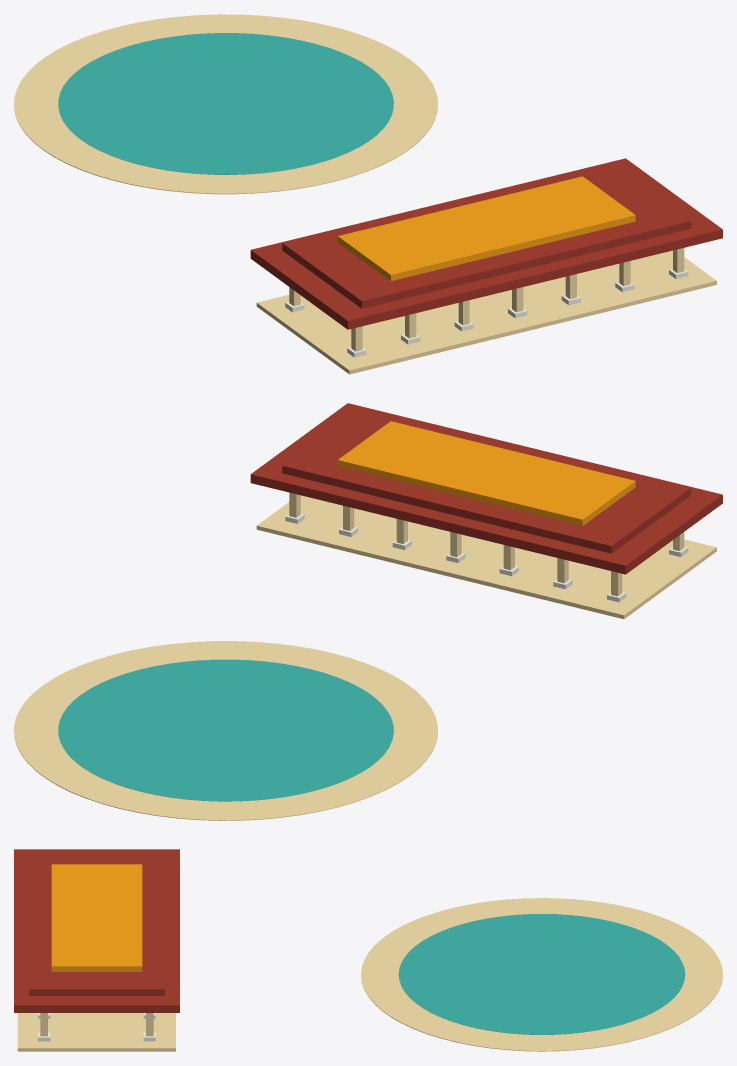
File: custom_architecture.glb
The picture shows the model from 3 angles, top to bottom: view 1: azimuth 30°, elevation 25°; view 2: azimuth 150°, elevation 25°; view 3: azimuth 270°, elevation 25°; orthographic projection. The views are drawn at different scales.
Parts seen in each view (by area): view 1: CustomColomboArchitecturePreserved; view 2: CustomColomboArchitecturePreserved; view 3: CustomColomboArchitecturePreserved.
Part boxes in pixels (bbox=[...]): CustomColomboArchitecturePreserved: bbox=[14, 14, 722, 374]; CustomColomboArchitecturePreserved: bbox=[14, 403, 722, 820]; CustomColomboArchitecturePreserved: bbox=[14, 849, 722, 1051].
Bounding box in the file's own units: 49 × 8.75 × 94.
